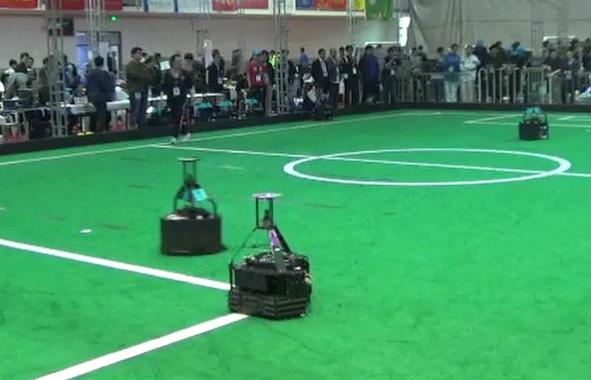robot: (226, 183, 318, 323), (149, 151, 228, 257)
